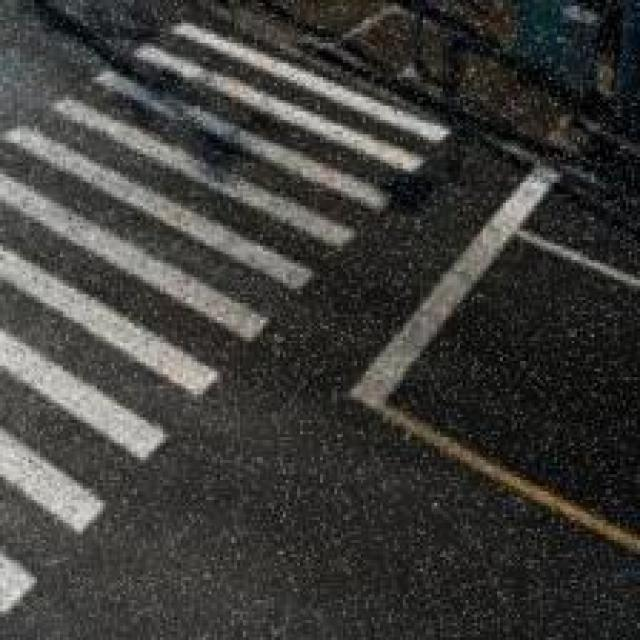crosswalk: (1, 5, 474, 634)
